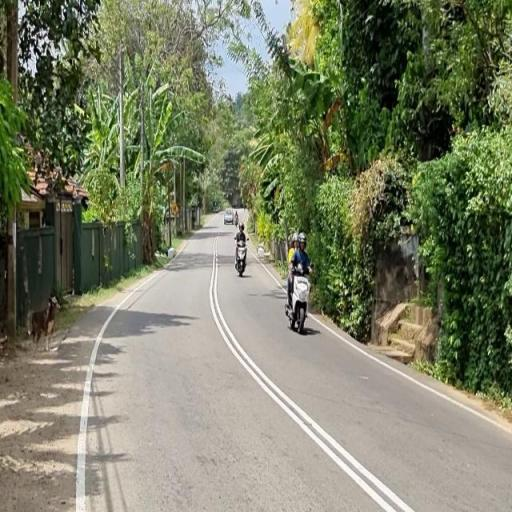double_white_line: (206, 234, 414, 512)
